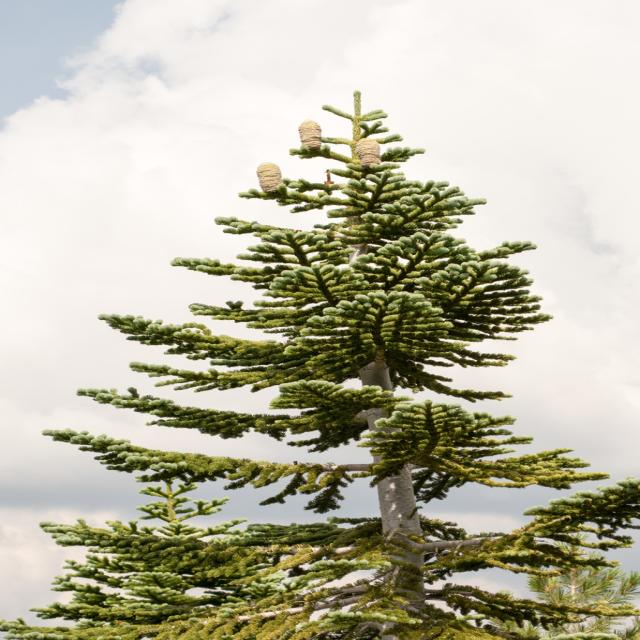Abies: (33, 87, 640, 640)
